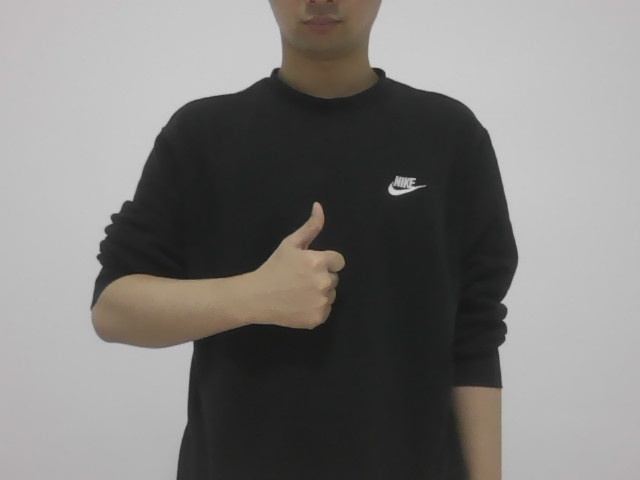good: (237, 188, 363, 345)
